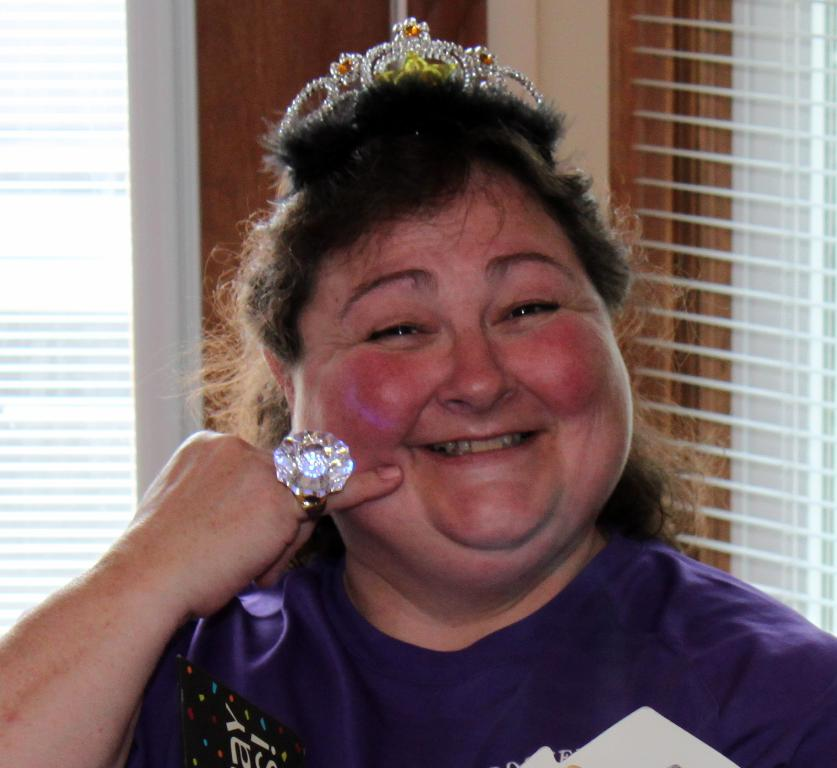Human_hand: (122, 421, 408, 619)
